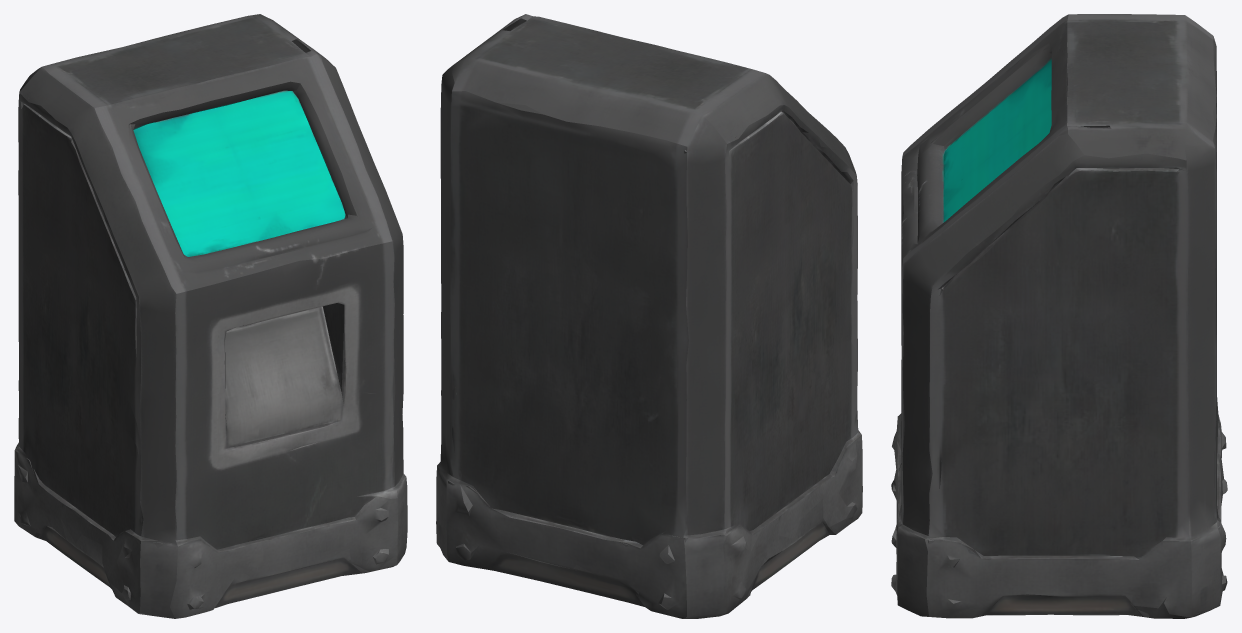
The model's file is delivery-terminal.glb.
3 renders of one model, left to right at view 1: azimuth 30°, elevation 25°; view 2: azimuth 150°, elevation 25°; view 3: azimuth 270°, elevation 25°, orthographic. The views are drawn at different scales.
Parts seen in each view (by area): view 1: Body; view 2: Body; view 3: Body.
Boxes of the visible parts, x1,y1,x2,y2 form: Body: (14, 14, 407, 618); Body: (436, 14, 862, 618); Body: (891, 14, 1227, 618).
Size of the model in its own units: 1.27 by 2 by 1.27.
Materials: 1 (1 with a texture image).
